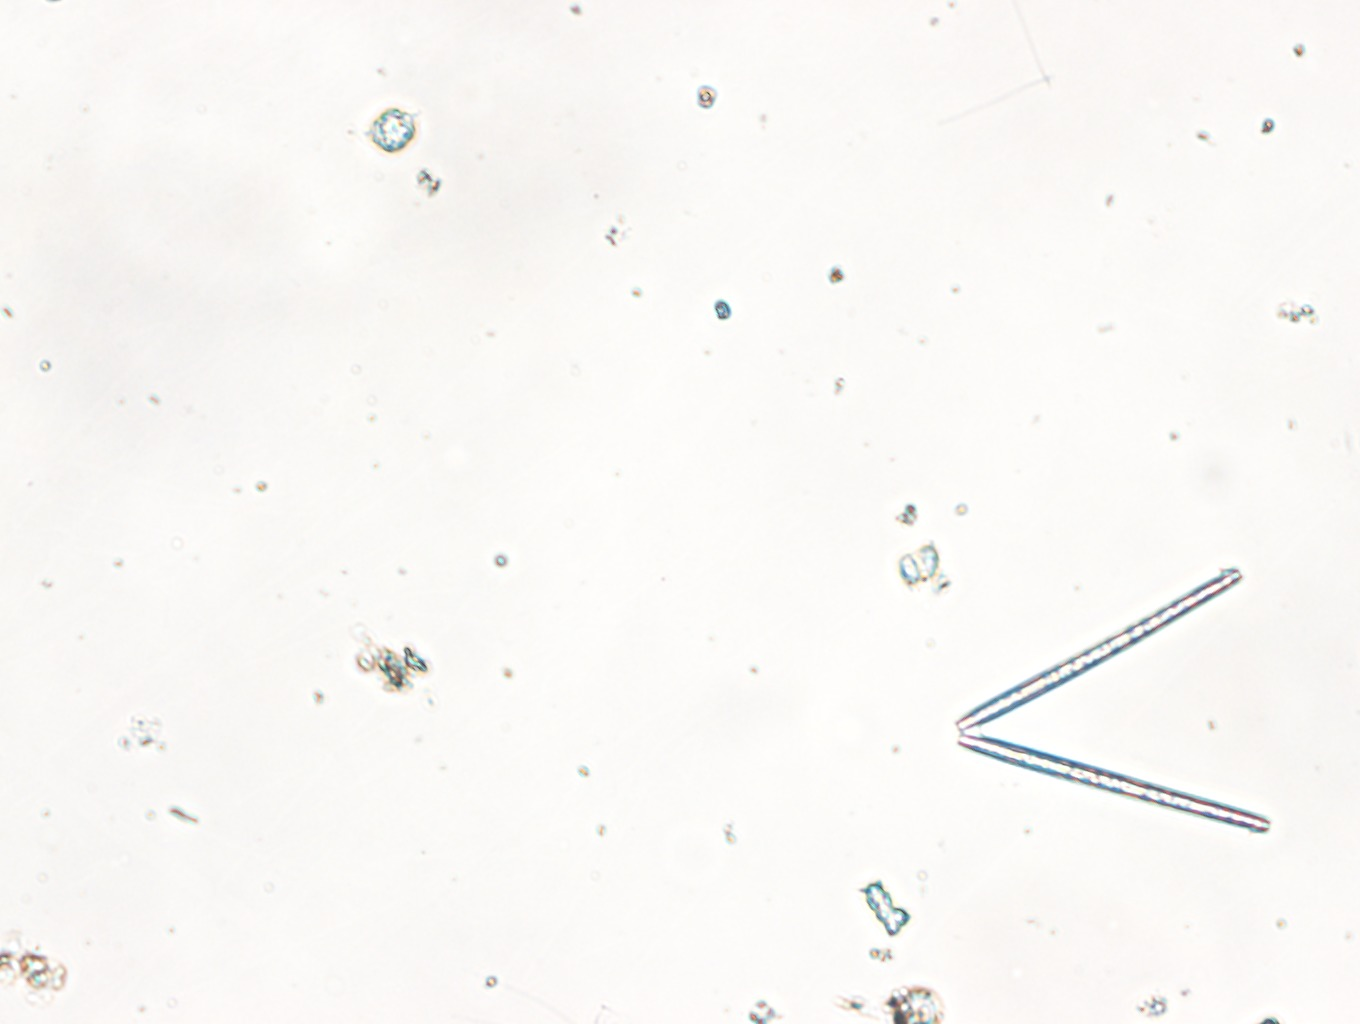thalassionema frauenfeldii: (953, 568, 1275, 837)
